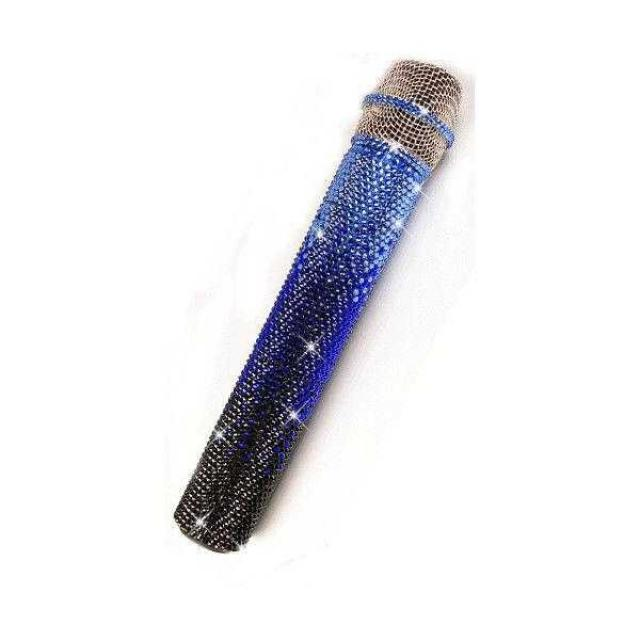microphone: (172, 61, 463, 554)
